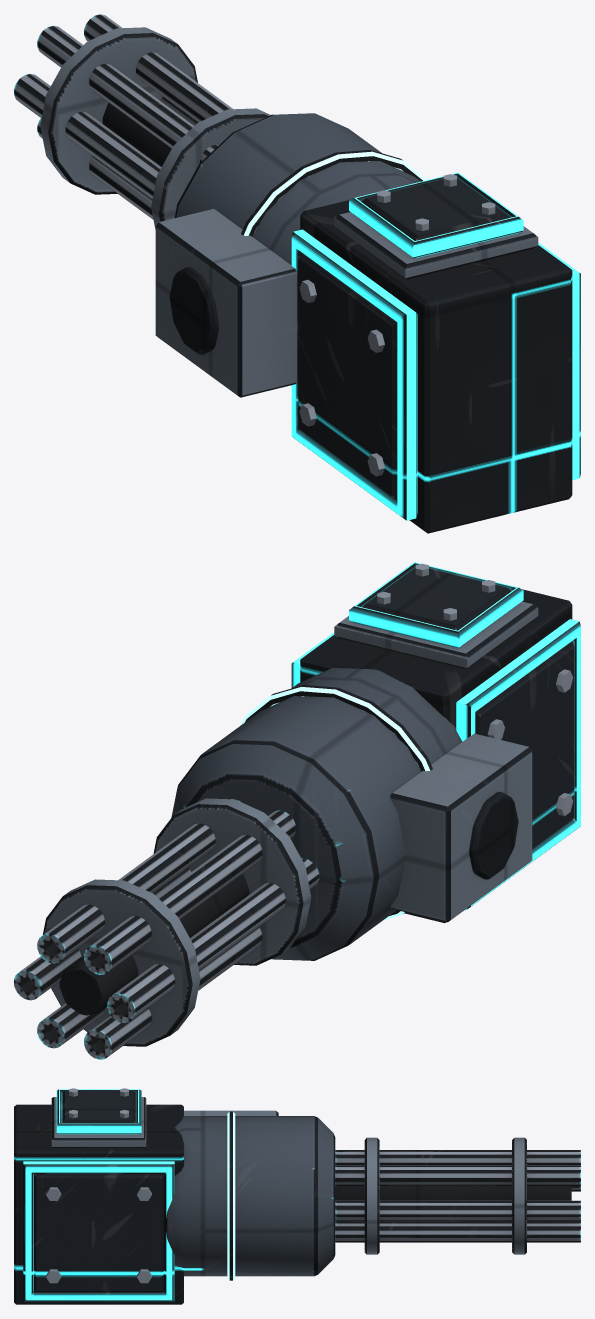
File: laser_gatling_t3.fbx
3 renders of one model, top to bottom at view 1: azimuth 30°, elevation 25°; view 2: azimuth 150°, elevation 25°; view 3: azimuth 270°, elevation 25°, orthographic. The views are drawn at different scales.
Visible parts, largest first — view 1: laser_gatling_t3.001, laser_gatling_t3_canones, laser_gatling_t3_neon; view 2: laser_gatling_t3.001, laser_gatling_t3_canones, laser_gatling_t3_neon; view 3: laser_gatling_t3.001, laser_gatling_t3_canones, laser_gatling_t3_neon.
Part boxes in pixels (box(x1,y1,x2,y2)): laser_gatling_t3.001: box(155, 113, 580, 533); laser_gatling_t3_canones: box(14, 14, 270, 229); laser_gatling_t3_neon: box(243, 151, 426, 235); laser_gatling_t3.001: box(171, 562, 580, 960); laser_gatling_t3_canones: box(14, 798, 319, 1059); laser_gatling_t3_neon: box(240, 687, 430, 920); laser_gatling_t3.001: box(14, 1088, 335, 1304); laser_gatling_t3_canones: box(335, 1137, 580, 1254); laser_gatling_t3_neon: box(227, 1112, 235, 1280).
Bounding box in the file's own units: 2.15 × 2.11 × 6.
